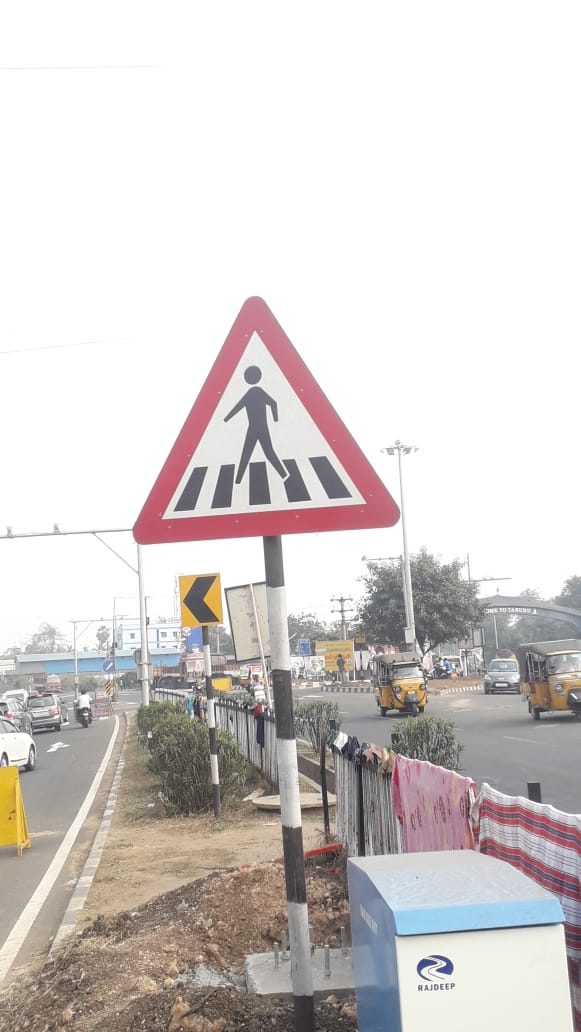pedestrian crossing: (131, 273, 411, 570)
